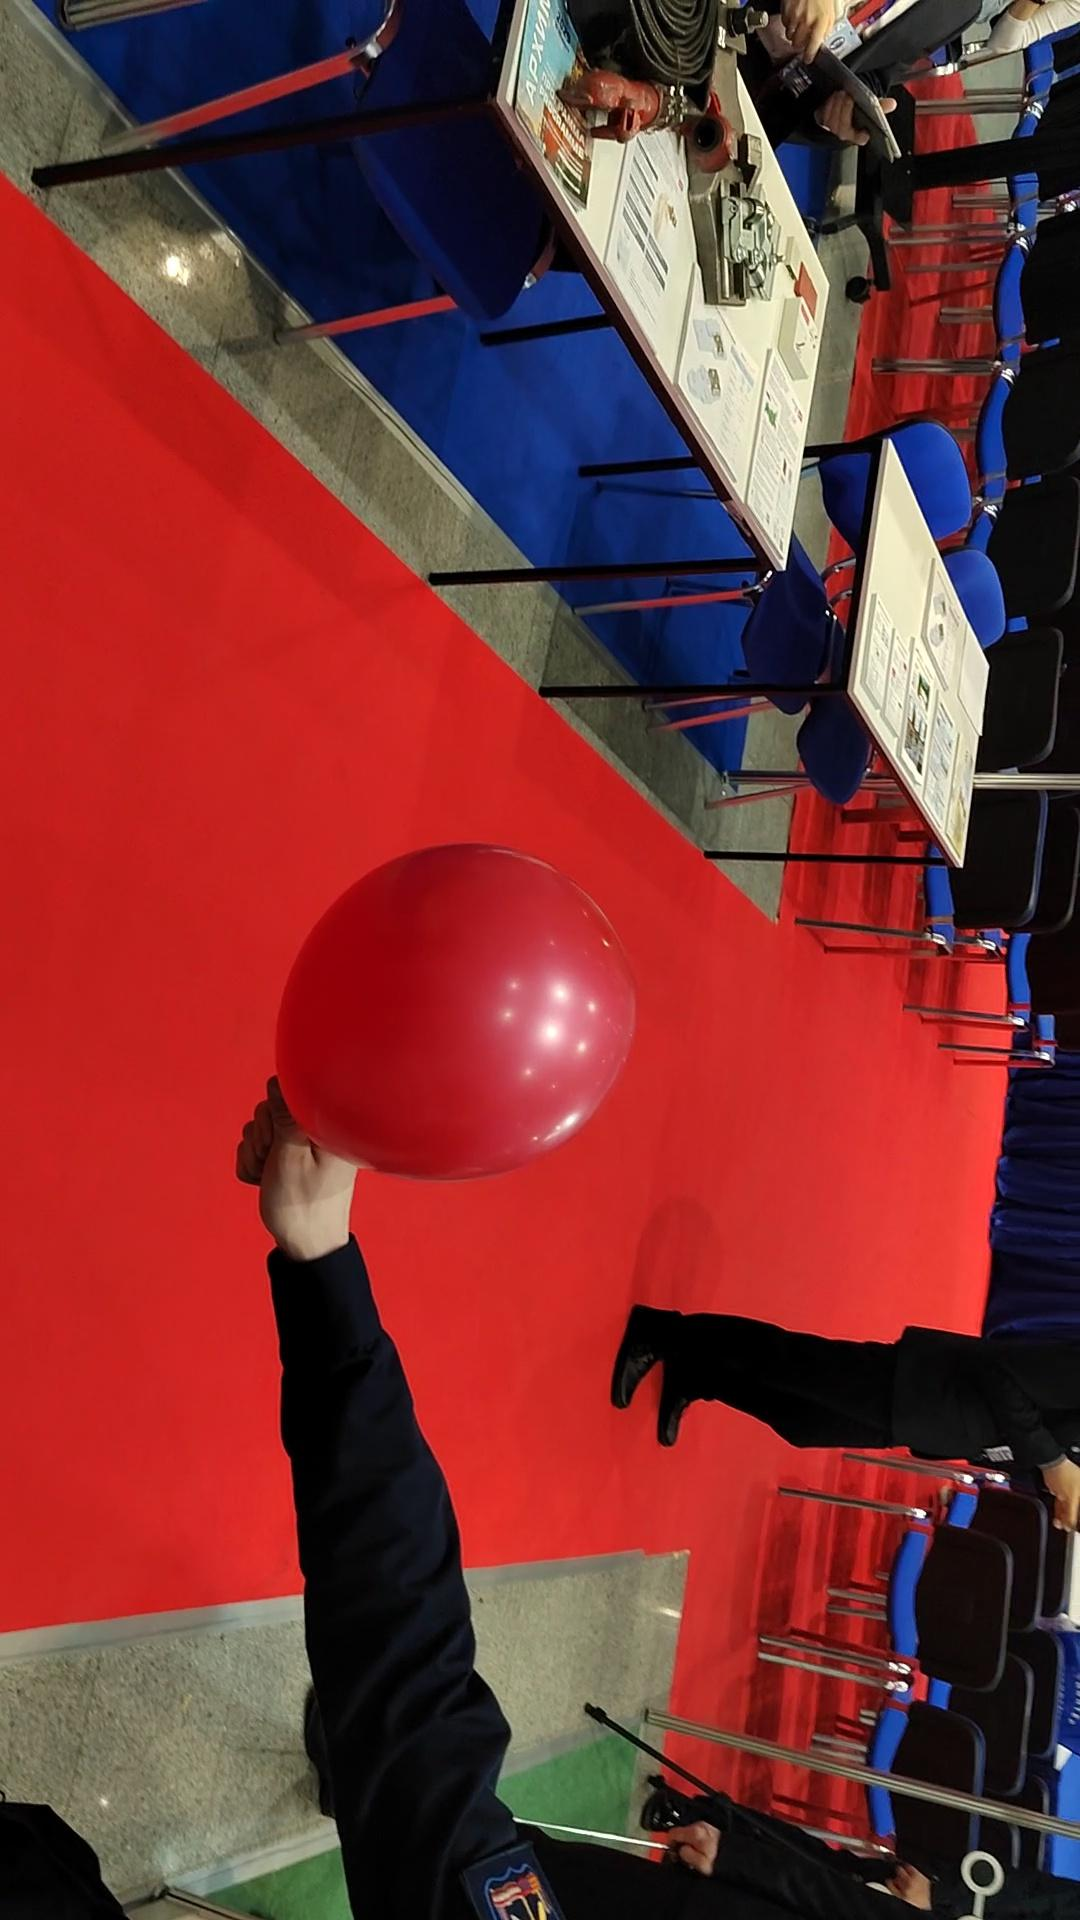red: (270, 833, 636, 1182)
